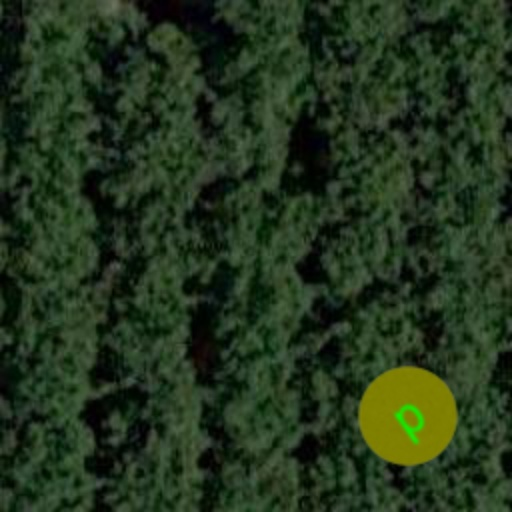circle: (338, 346, 478, 486)
